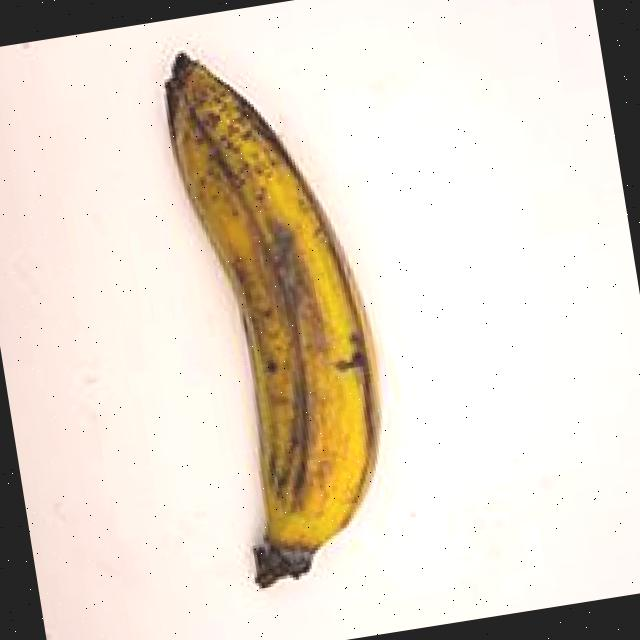Overripe: (81, 4, 451, 623)
